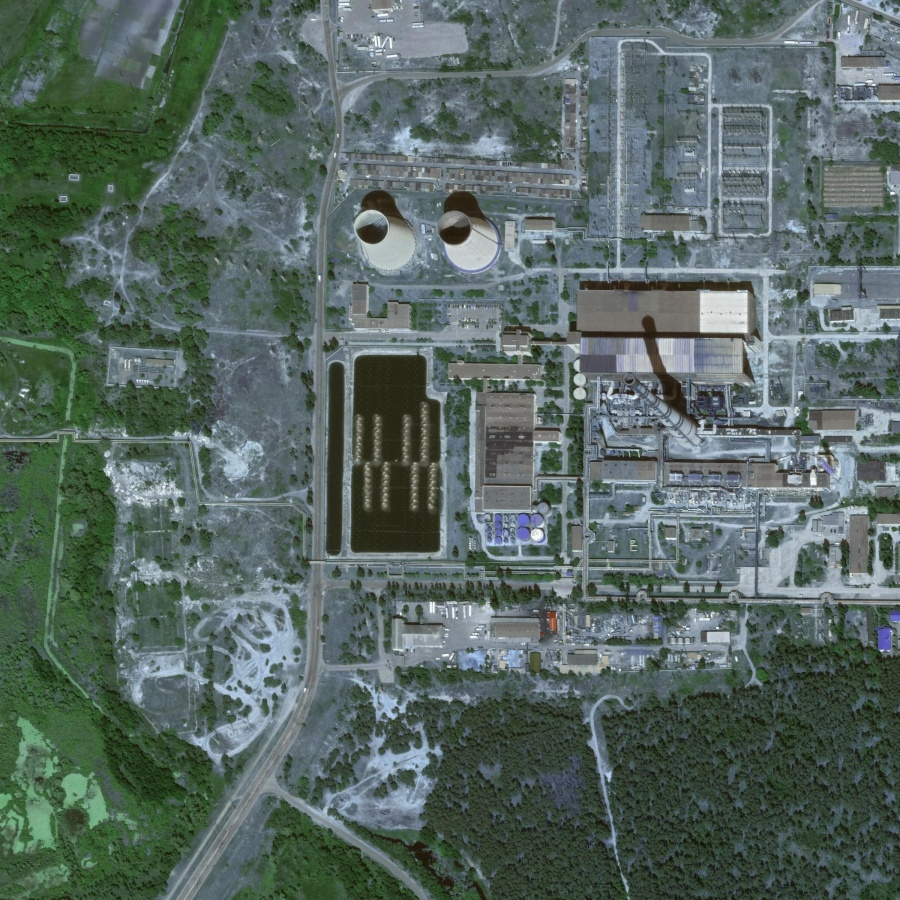PowerPlant: (315, 167, 768, 567)
